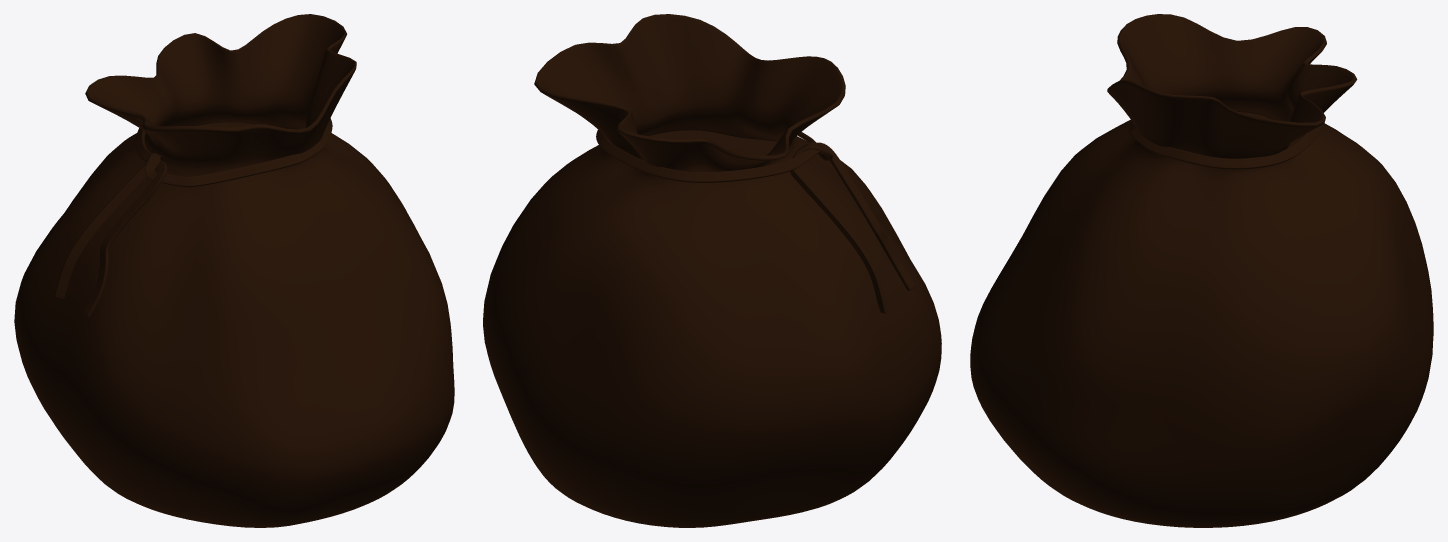
File: SM_GoldBag.FBX
3 views of the same model, side by side, from view 1: azimuth 30°, elevation 25°; view 2: azimuth 150°, elevation 25°; view 3: azimuth 270°, elevation 25° (orthographic). The views are drawn at different scales.
Visible parts, largest first — view 1: SM_GoldBag; view 2: SM_GoldBag; view 3: SM_GoldBag.
Boxes of the visible parts, <box> form: SM_GoldBag: <box>14,14,454,527</box>; SM_GoldBag: <box>483,14,941,527</box>; SM_GoldBag: <box>970,14,1433,527</box>.
Size of what is drawn, in the model's own units: 53.6 by 56 by 56.06.
